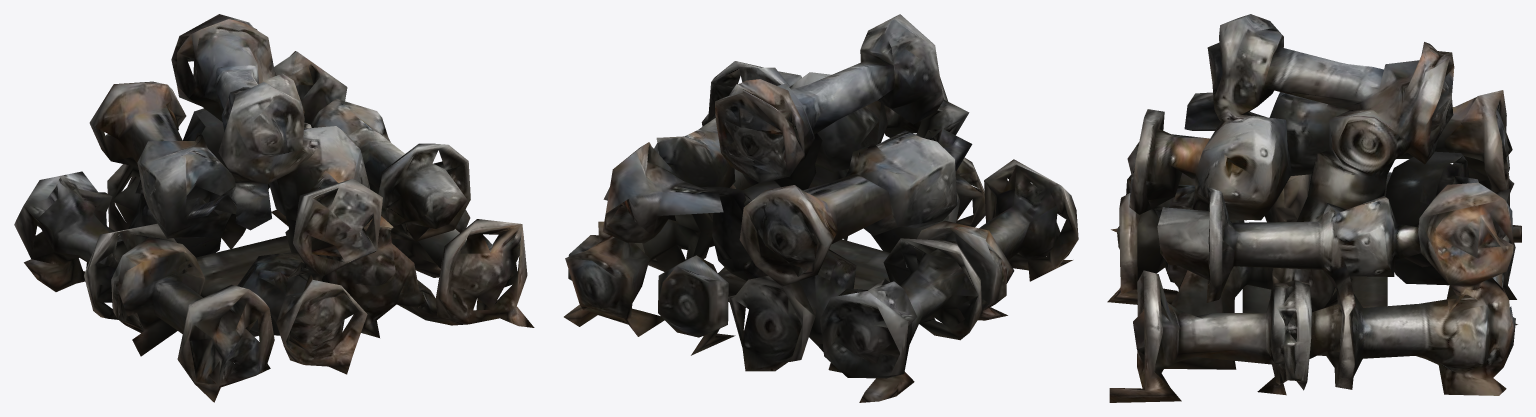
File: rd_wheels.glb
3 views of the same model, side by side, from view 1: azimuth 30°, elevation 25°; view 2: azimuth 150°, elevation 25°; view 3: azimuth 270°, elevation 25° (orthographic). The views are drawn at different scales.
Parts seen in each view (by area): view 1: tripo_node_1b08c08a-8b51-4d6f-a946-5872de13c346; view 2: tripo_node_1b08c08a-8b51-4d6f-a946-5872de13c346; view 3: tripo_node_1b08c08a-8b51-4d6f-a946-5872de13c346.
Boxes of the visible parts, <box> form: tripo_node_1b08c08a-8b51-4d6f-a946-5872de13c346: <box>14,14,534,402</box>; tripo_node_1b08c08a-8b51-4d6f-a946-5872de13c346: <box>564,14,1078,402</box>; tripo_node_1b08c08a-8b51-4d6f-a946-5872de13c346: <box>1107,14,1521,402</box>.
Size of the model in its own units: 1 by 0.6809 by 0.9298.
1 material, 1 textured.
